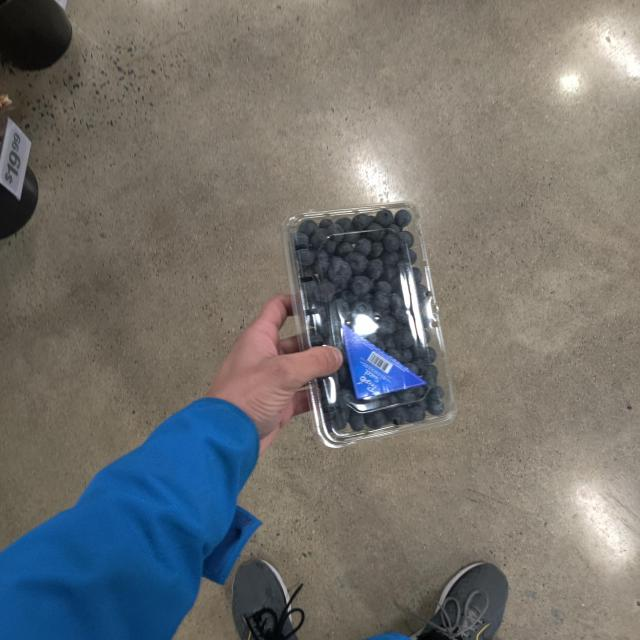Blueberries: (276, 188, 471, 460)
